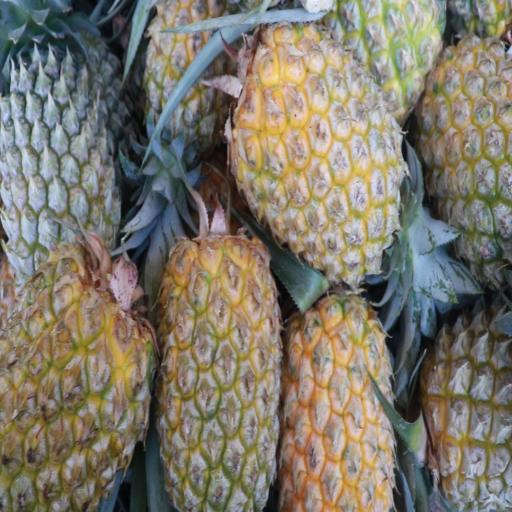------------------------------: (424, 31, 512, 270), (420, 289, 512, 507), (144, 0, 237, 149)
Pineapple - v8 v1: (232, 11, 396, 271), (0, 262, 156, 512), (160, 238, 278, 511), (286, 293, 392, 512), (345, 0, 442, 112)
